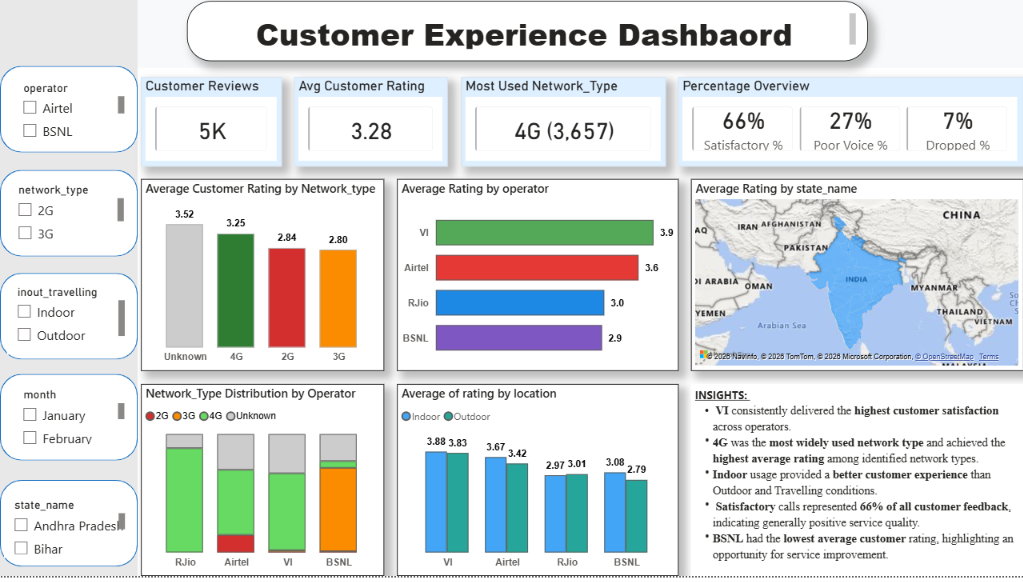

The dashboard page shown, as its layout file describes it:
{"tool":"powerbi","page":{"name":"Excutive Dashboard","canvas":[1280,720],"ordinal":0},"visuals":[{"type":"textbox","box":[0,0,1280.2,84.9],"z":0},{"type":"textbox","title":"Customer Experience Dashboard","box":[233.7,1.2,851.2,75.6],"z":1000},{"type":"columnChart","title":"Average Customer Rating by Network_type","fields":{"Category":["telecom_data.network_type"],"Y":["Avg(telecom_data.rating)"]},"box":[176,224,304,240],"z":2000},{"type":"hundredPercentStackedColumnChart","title":"Network_Type Distribution by Operator","fields":{"Category":["telecom_data.operator"],"Series":["telecom_data.network_type"],"Y":["CountNonNull(telecom_data.calldrop_category)"]},"box":[176,480,304,240],"z":3000},{"type":"textbox","box":[0,0,172.1,719.8],"z":4000},{"type":"cardVisual","title":"Customer Reviews","fields":{"Data":["telecom_data.totalrows"]},"box":[176,96,176,112],"z":7000},{"type":"cardVisual","title":"Most Used Network_Type","fields":{"Data":["telecom_data.Most Used Network Type"]},"box":[576,96,256,112],"z":8000},{"type":"cardVisual","title":"Percentage Overview","fields":{"Data":["telecom_data.Satisfactory %","telecom_data.Poor Voice Quality %","telecom_data.Call Dropped %"]},"box":[848,96,432,112],"z":9000},{"type":"cardVisual","title":"Avg Customer Rating","fields":{"Data":["telecom_data.Average Rating"]},"box":[368,96,192,112],"z":10000},{"type":"clusteredColumnChart","title":"Average of rating by location","fields":{"Category":["telecom_data.operator"],"Series":["telecom_data.location"],"Y":["Avg(telecom_data.rating)"]},"box":[496,480,352,240],"z":11000},{"type":"filledMap","fields":{"Category":["telecom_data.state_name"]},"box":[864,224,416,240],"z":12000},{"type":"barChart","fields":{"Category":["telecom_data.operator"],"Y":["telecom_data.Average Rating"]},"box":[496,224,352,240],"z":13000},{"type":"shape","box":[0,82.6,172.1,108.1],"z":14000},{"type":"slicer","fields":{"Values":["telecom_data.operator"]},"box":[16,96,144,80],"z":15000},{"type":"shape","box":[0,212.8,172.1,108.1],"z":16000},{"type":"slicer","fields":{"Values":["telecom_data.network_type"]},"box":[10.5,223.3,150,87.2],"z":17000},{"type":"shape","box":[0,341.9,172.1,108.1],"z":18000},{"type":"slicer","fields":{"Values":["telecom_data.inout_travelling"]},"box":[8.1,351.2,152.3,91.9],"z":19000},{"type":"shape","box":[0,467.4,172.1,108.1],"z":20000},{"type":"shape","box":[0,600,172.1,108.1],"z":21000},{"type":"slicer","fields":{"Values":["telecom_data.state_name"]},"box":[4.7,617.4,155.8,80.2],"z":22000},{"type":"textbox","box":[864,480,416,240],"z":23000},{"type":"slicer","fields":{"Values":["telecom_data.month"]},"box":[16,480,144,80],"z":24000}]}

Visuals, with their boxes in screenshot pixels (x1, y1, x2, y2), scaled from the page's 1280x720 canvas onto the 1023x582 screenshot:
textbox: Rect(0, 0, 1022, 69)
"Customer Experience Dashboard" textbox: Rect(187, 1, 867, 62)
"Average Customer Rating by Network_type" columnChart: Rect(141, 181, 384, 375)
"Network_Type Distribution by Operator" hundredPercentStackedColumnChart: Rect(141, 388, 384, 581)
textbox: Rect(0, 0, 138, 581)
"Customer Reviews" cardVisual: Rect(141, 78, 281, 168)
"Most Used Network_Type" cardVisual: Rect(460, 78, 665, 168)
"Percentage Overview" cardVisual: Rect(678, 78, 1022, 168)
"Avg Customer Rating" cardVisual: Rect(294, 78, 448, 168)
"Average of rating by location" clusteredColumnChart: Rect(396, 388, 678, 581)
filledMap - telecom_data.state_name: Rect(691, 181, 1022, 375)
barChart - telecom_data.operator x telecom_data.Average Rating: Rect(396, 181, 678, 375)
shape: Rect(0, 67, 138, 154)
slicer - telecom_data.operator: Rect(13, 78, 128, 142)
shape: Rect(0, 172, 138, 259)
slicer - telecom_data.network_type: Rect(8, 181, 128, 251)
shape: Rect(0, 276, 138, 364)
slicer - telecom_data.inout_travelling: Rect(6, 284, 128, 358)
shape: Rect(0, 378, 138, 465)
shape: Rect(0, 485, 138, 572)
slicer - telecom_data.state_name: Rect(4, 499, 128, 564)
textbox: Rect(691, 388, 1022, 581)
slicer - telecom_data.month: Rect(13, 388, 128, 453)
